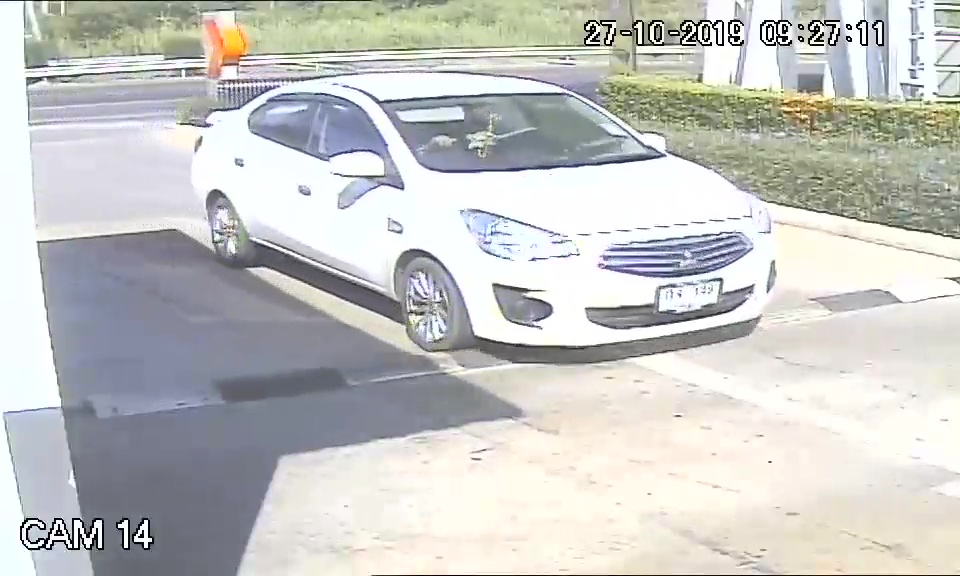sedan: (187, 71, 782, 357)
